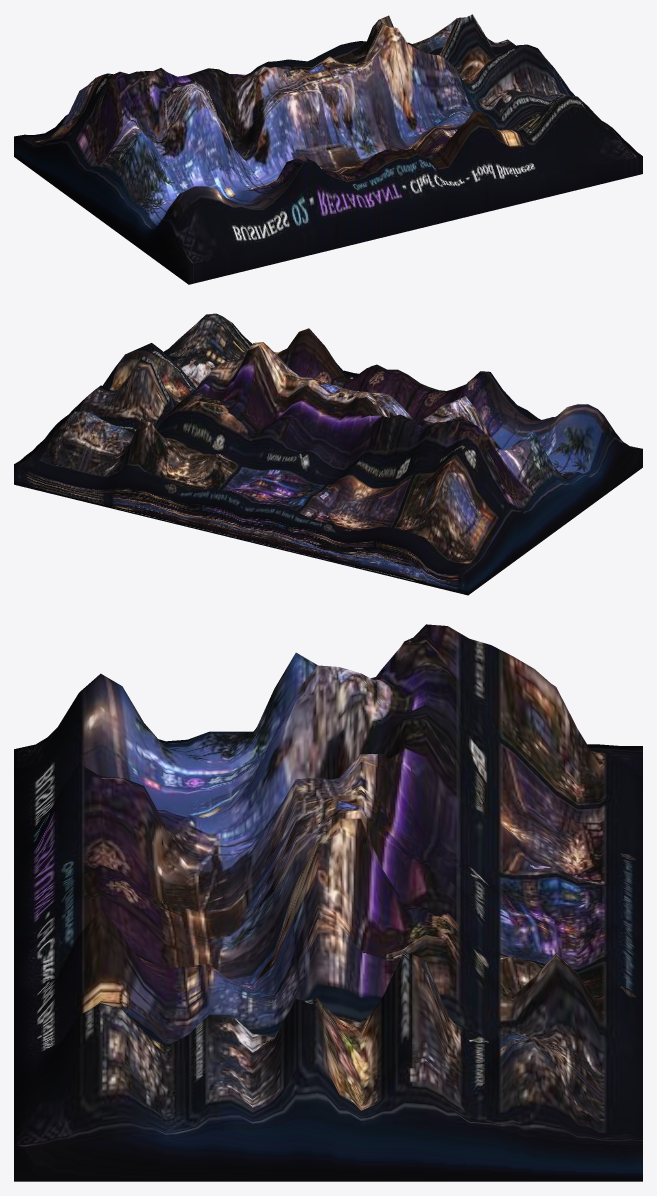
Rendered from BUSINESS_02_Restaurant.glb.
The picture shows the model from 3 angles, top to bottom: view 1: azimuth 30°, elevation 25°; view 2: azimuth 150°, elevation 25°; view 3: azimuth 270°, elevation 25°; orthographic projection. The views are drawn at different scales.
Parts seen in each view (by area): view 1: BUSINESS_02_Restaurant; view 2: BUSINESS_02_Restaurant; view 3: BUSINESS_02_Restaurant.
Boxes of the visible parts, x1,y1,x2,y2 form: BUSINESS_02_Restaurant: (14,14,642,284); BUSINESS_02_Restaurant: (14,313,642,595); BUSINESS_02_Restaurant: (14,624,642,1181).
Size of the model in its own units: 2 by 0.51 by 1.33.
1 material, 1 textured.
